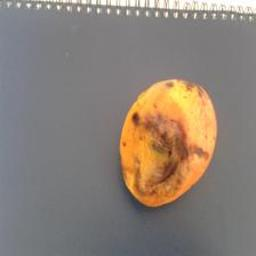Mango Rotten: (106, 66, 220, 228)
